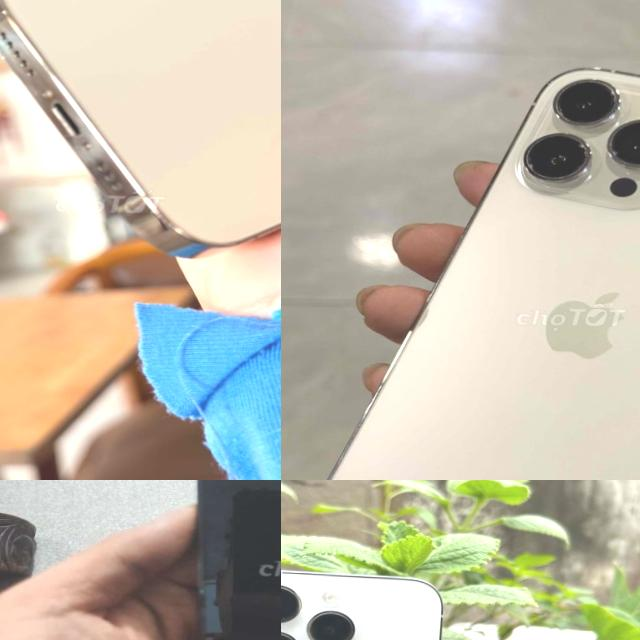gen_14: (309, 47, 640, 480), (0, 0, 281, 248), (176, 480, 281, 640), (281, 561, 451, 640)
